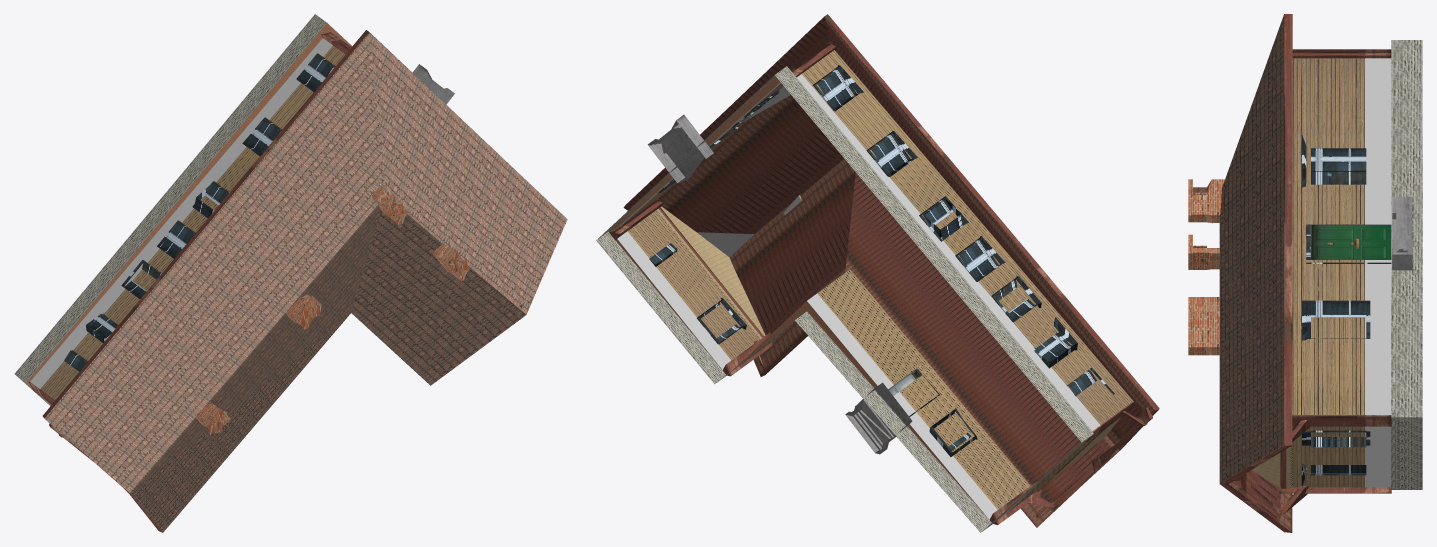
File: Suurtyki_6_1-origo.obj
3 views of the same model, side by side, from view 1: azimuth 30°, elevation 25°; view 2: azimuth 150°, elevation 25°; view 3: azimuth 270°, elevation 25° (orthographic). The views are drawn at different scales.
Parts seen in each view (by area): view 1: Suurtyki_6; view 2: Suurtyki_6; view 3: Suurtyki_6.
Boxes of the visible parts, x1,y1,x2,y2 form: Suurtyki_6: (14,14,567,532); Suurtyki_6: (596,14,1159,532); Suurtyki_6: (1188,14,1422,532).
Size of the model in its own units: 26.75 by 22 by 7.98.
